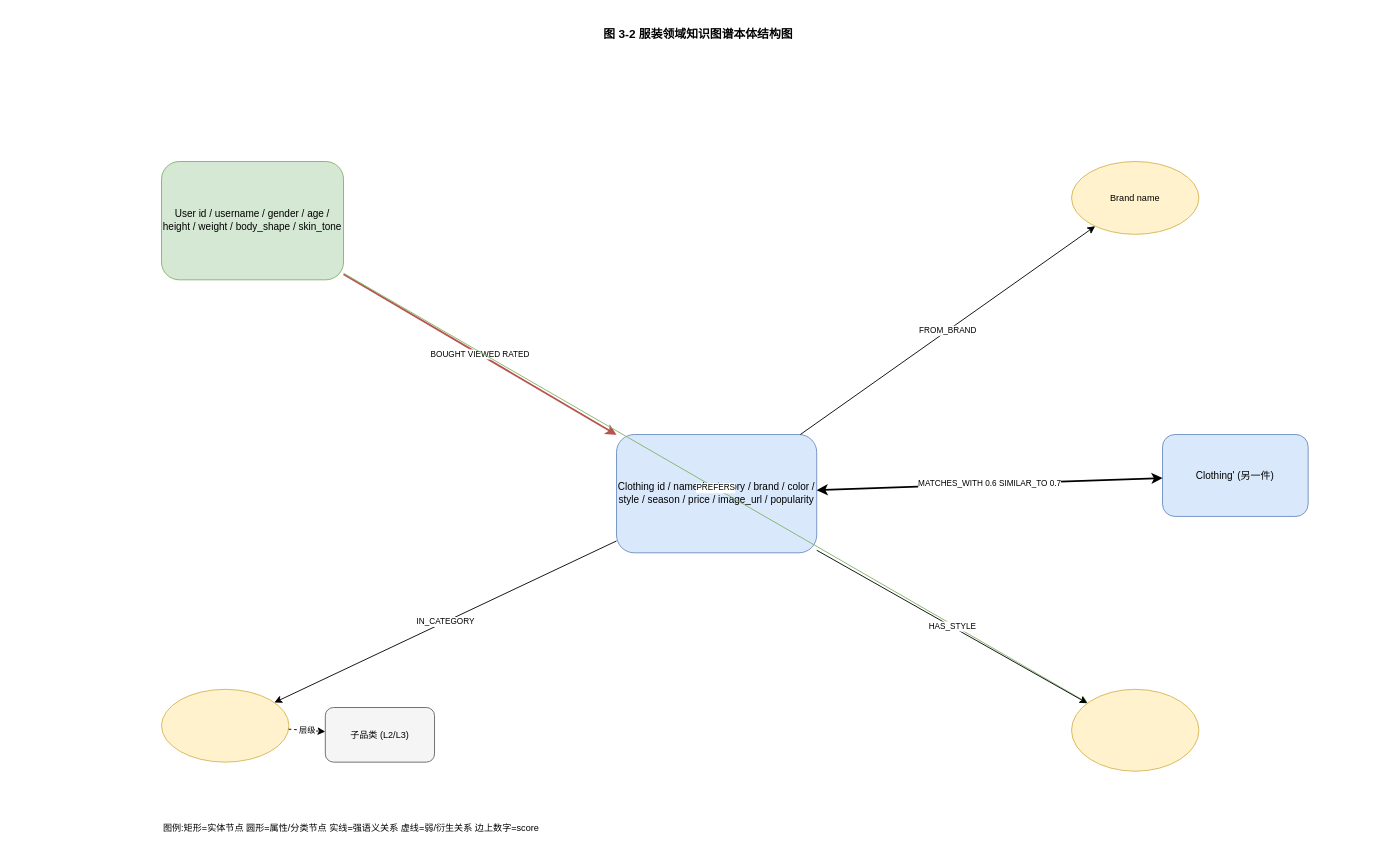
This 1396x859 diagram has some shape labels left out. Here are the shapes that lost their labels. From the top down, the centre of each, then its label:
At [225,725]: "Category id / name".
At [1135,729]: "Style id / name / description".
